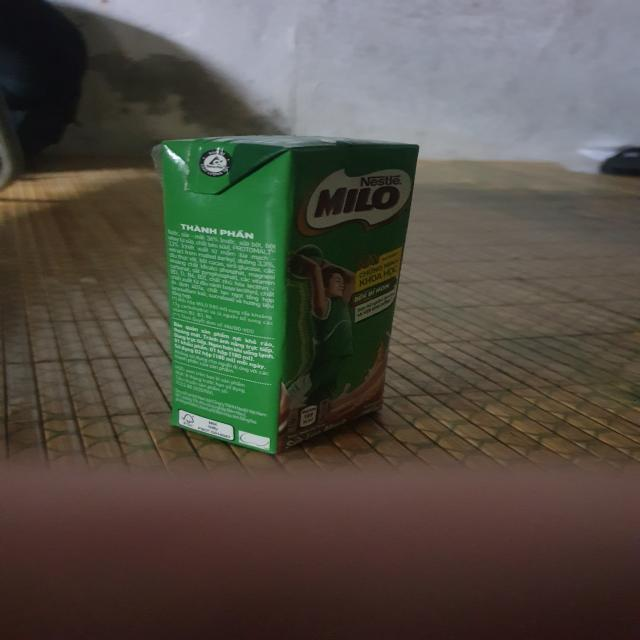Milo: (162, 131, 419, 444)
